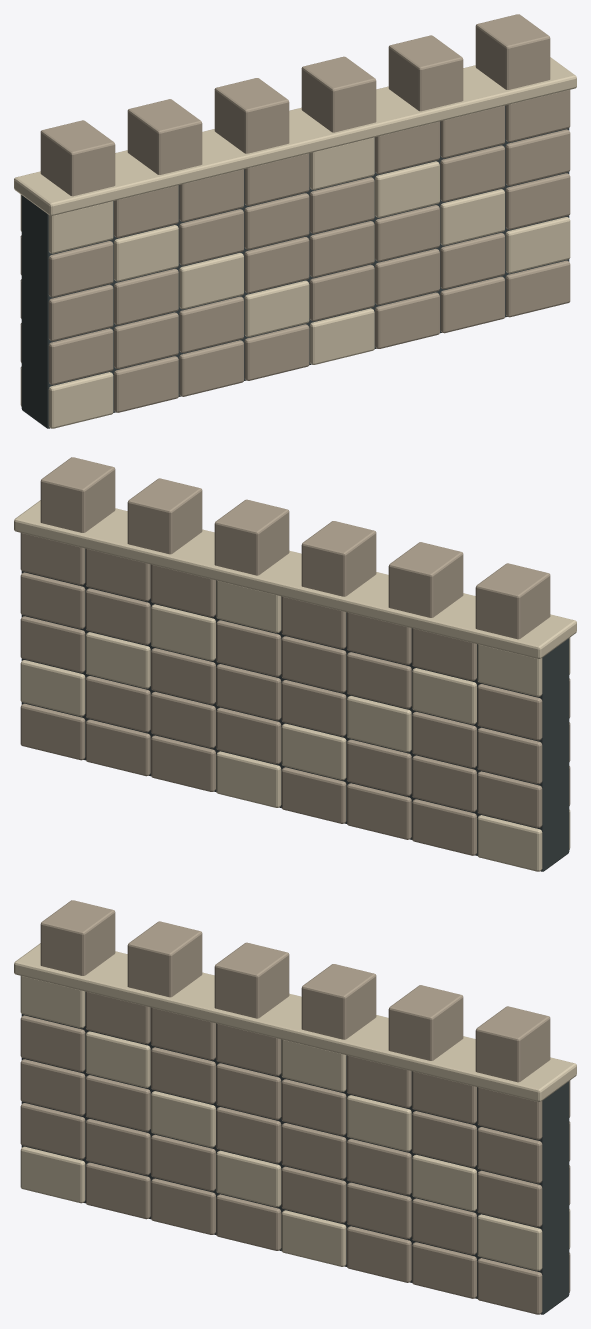
The model's file is castle_wall.glb.
The picture shows the model from 3 angles, top to bottom: view 1: azimuth 30°, elevation 25°; view 2: azimuth 150°, elevation 25°; view 3: azimuth 330°, elevation 25°; orthographic projection.
Visible parts, largest first — view 1: SceneryRuntime; view 2: SceneryRuntime; view 3: SceneryRuntime.
Part boxes in pixels (bbox=[...]): SceneryRuntime: bbox=[14, 14, 576, 428]; SceneryRuntime: bbox=[14, 457, 576, 871]; SceneryRuntime: bbox=[14, 900, 576, 1314].
Size of the model in its own units: 8.08 by 4 by 1.
